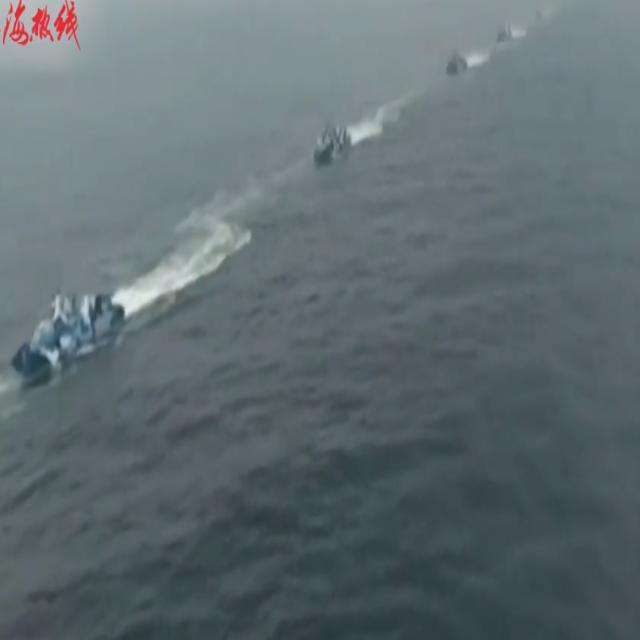navalvessels: (11, 282, 128, 380), (311, 116, 354, 164), (445, 51, 478, 82), (491, 21, 515, 45)
